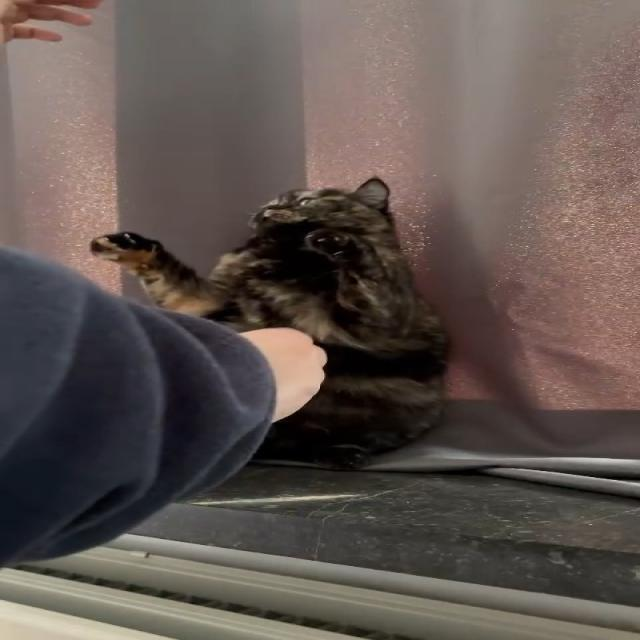authorized: (88, 176, 452, 470)
